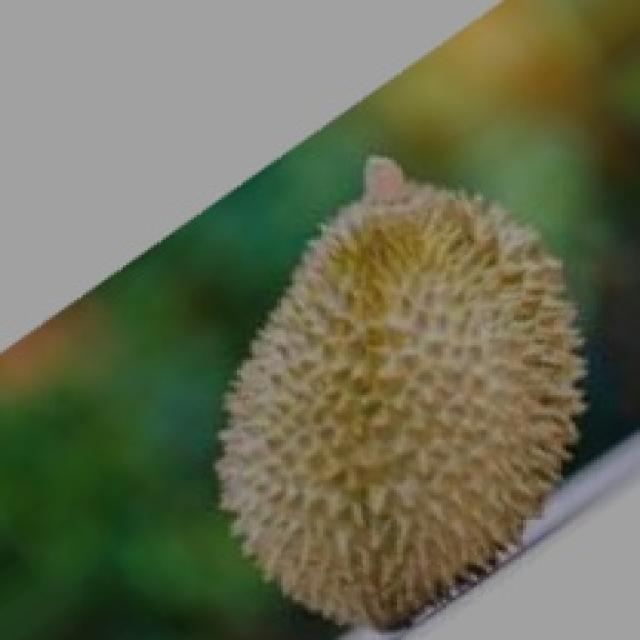fruit: (249, 218, 637, 638)
